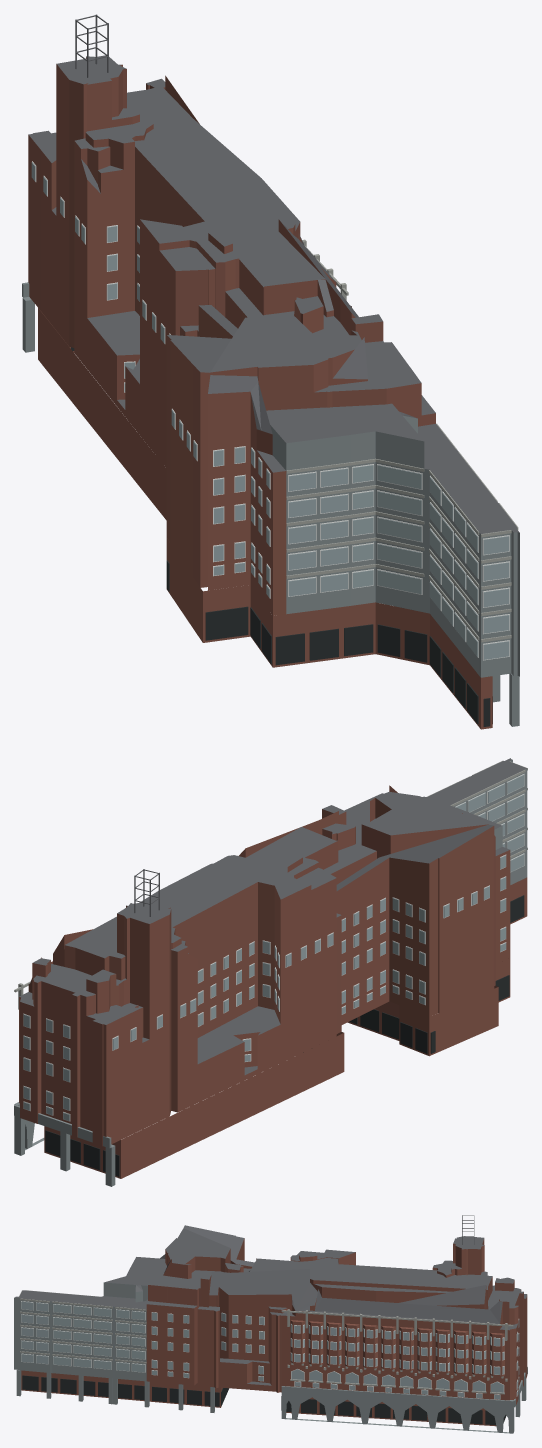
The model's file is carlton-hotel.glb.
3 views of the same model, one above another, from view 1: azimuth 30°, elevation 25°; view 2: azimuth 150°, elevation 25°; view 3: azimuth 270°, elevation 25° (orthographic). The views are drawn at different scales.
Visible parts, largest first — view 1: carlton-hotel; view 2: carlton-hotel; view 3: carlton-hotel.
Part boxes in pixels (bbox=[...]): carlton-hotel: bbox=[22, 14, 519, 729]; carlton-hotel: bbox=[14, 758, 527, 1186]; carlton-hotel: bbox=[14, 1215, 527, 1433].
Bounding box in the file's own units: 39.34 × 44.8 × 113.
